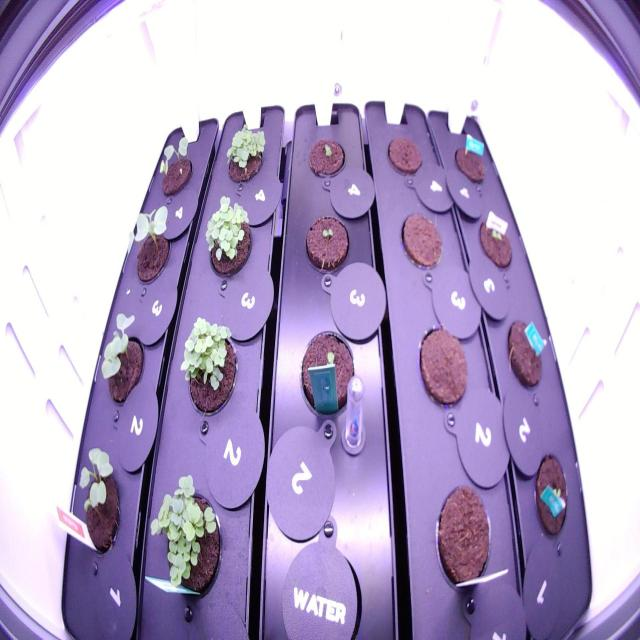germination: (140, 467, 224, 613), (176, 310, 243, 422), (73, 441, 128, 569), (296, 325, 360, 427), (120, 195, 178, 294), (94, 308, 147, 411), (203, 190, 256, 286), (217, 115, 270, 191), (302, 206, 352, 278), (154, 126, 197, 205), (474, 212, 517, 272), (304, 134, 347, 183)
pod: (430, 478, 494, 602), (414, 319, 471, 413), (528, 446, 570, 544), (396, 208, 447, 276), (504, 315, 546, 393), (384, 130, 424, 183), (451, 138, 490, 188)
